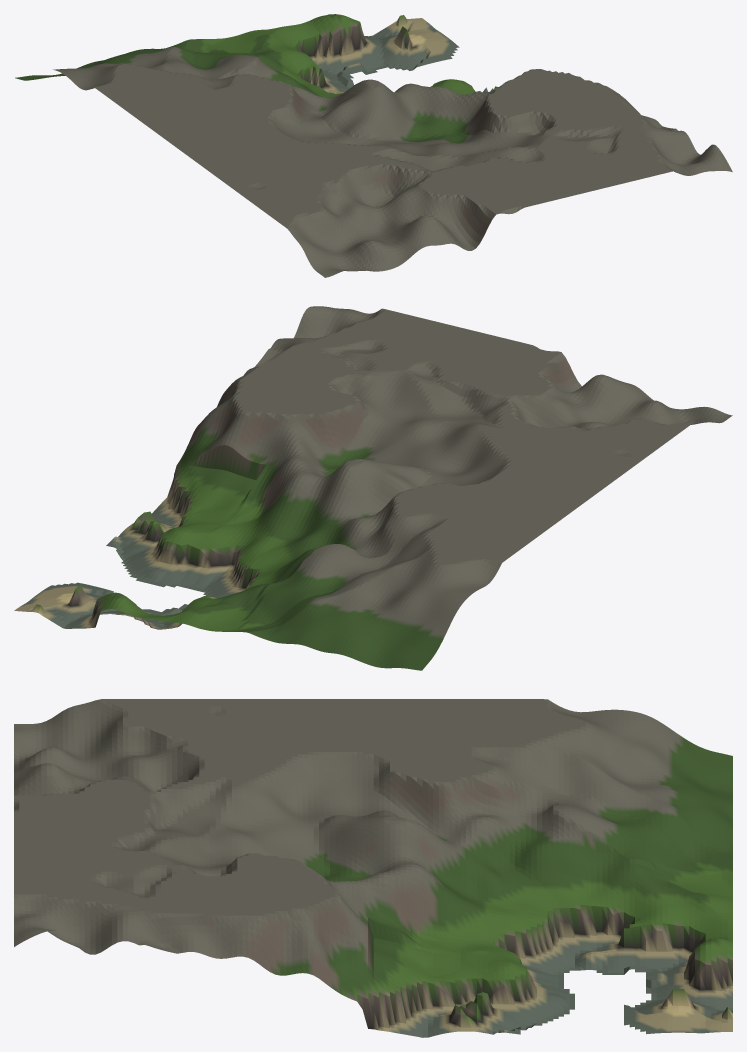
File: coast_tile_x0z3.glb
3 views of the same model, one above another, from view 1: azimuth 30°, elevation 25°; view 2: azimuth 150°, elevation 25°; view 3: azimuth 270°, elevation 25° (orthographic). The views are drawn at different scales.
Visible parts, largest first — view 1: geometry_0; view 2: geometry_0; view 3: geometry_0.
Boxes of the visible parts, bbox=[...] form: geometry_0: bbox=[15, 14, 732, 277]; geometry_0: bbox=[14, 306, 732, 670]; geometry_0: bbox=[14, 699, 732, 1037].
Bounding box in the file's own units: 600 × 134 × 792.
